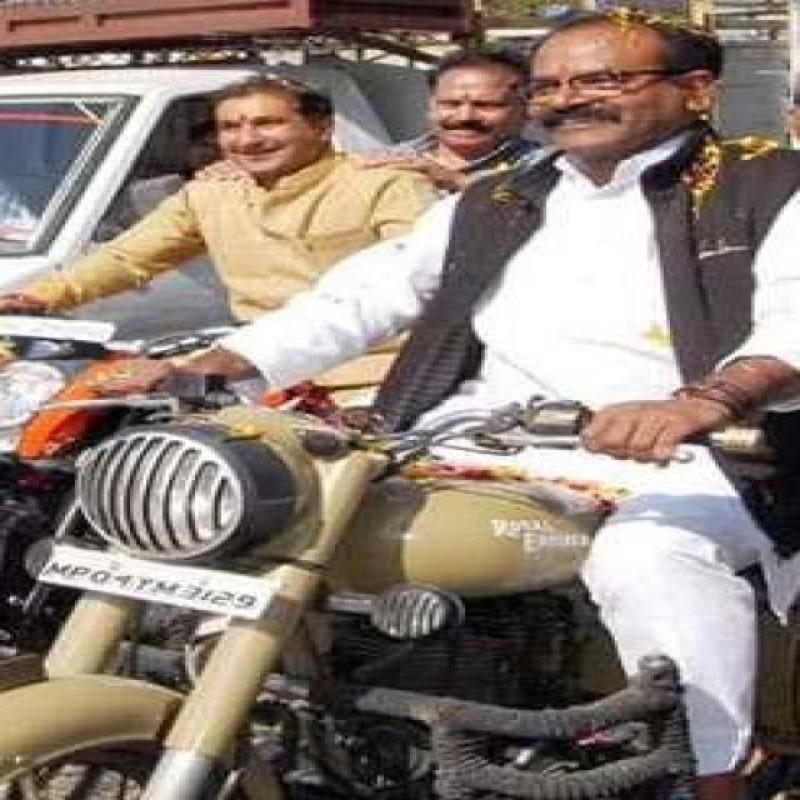nohelmet: (488, 12, 712, 170), (214, 83, 362, 188)
